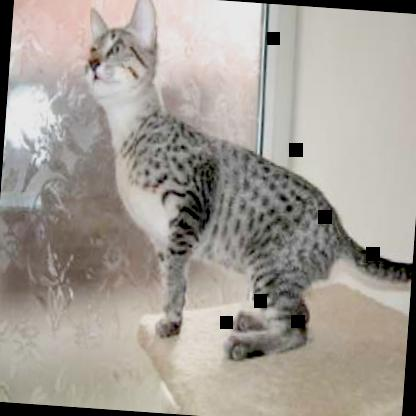cat: (66, 0, 415, 376)
